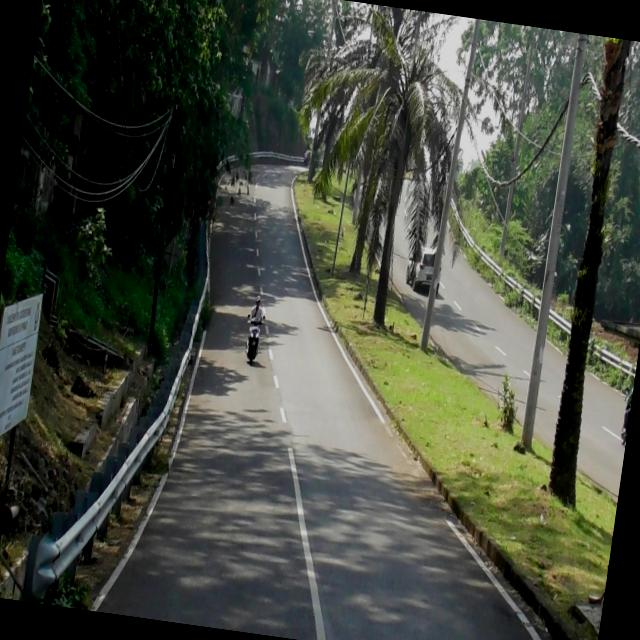motorcycle: (242, 316, 264, 368)
person: (248, 294, 266, 324)
rider_region: (241, 291, 267, 366)
